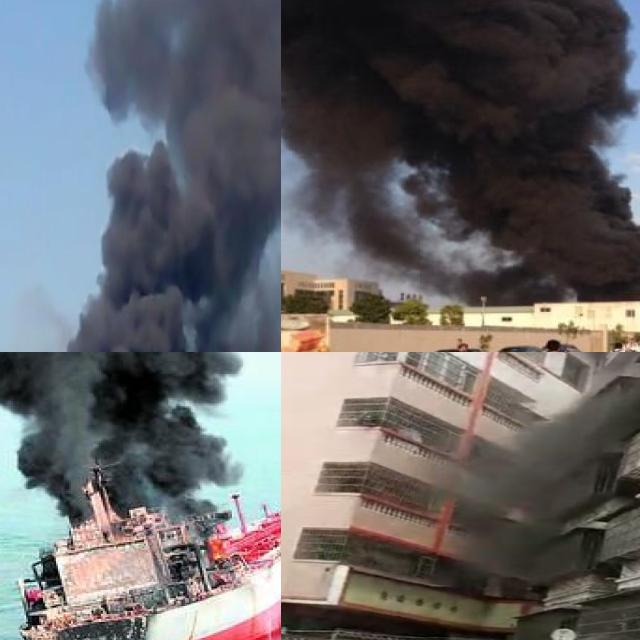smoke: (281, 0, 640, 299), (59, 0, 281, 352), (0, 352, 244, 524), (448, 377, 640, 576)
